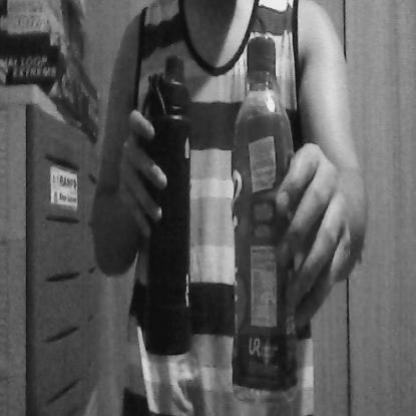Plastic Bottle: (221, 19, 308, 408)
